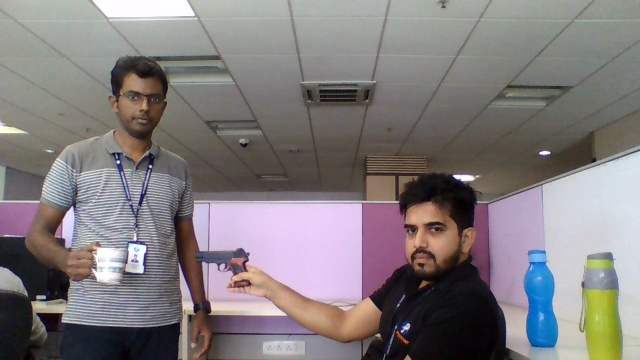gun: (191, 246, 250, 265)
